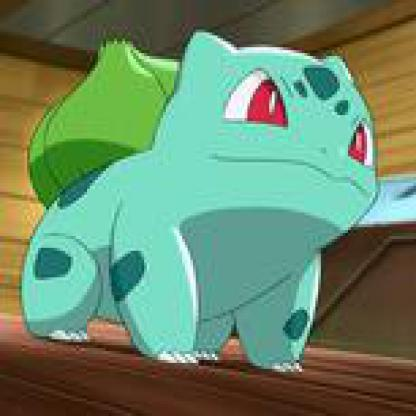Bulbasaur: (45, 19, 415, 414)
